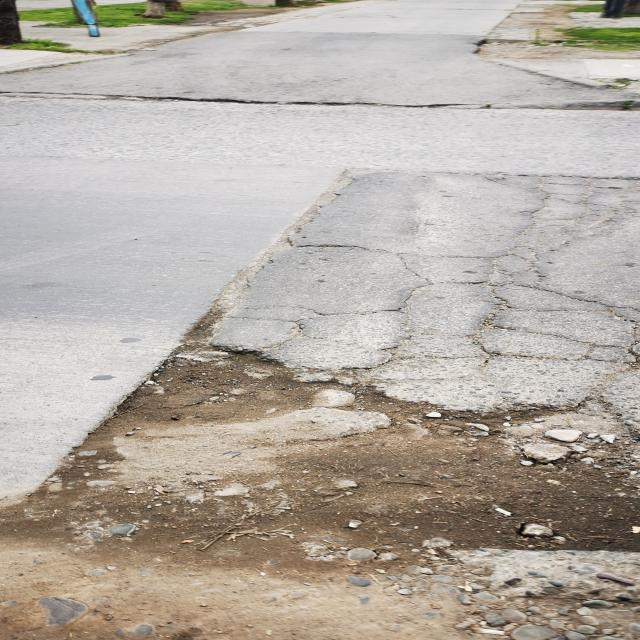BACHE: (0, 343, 639, 639)
GRIETA: (181, 169, 356, 346), (0, 91, 639, 112)
PIEL DE COCODRILO: (211, 179, 639, 435)
